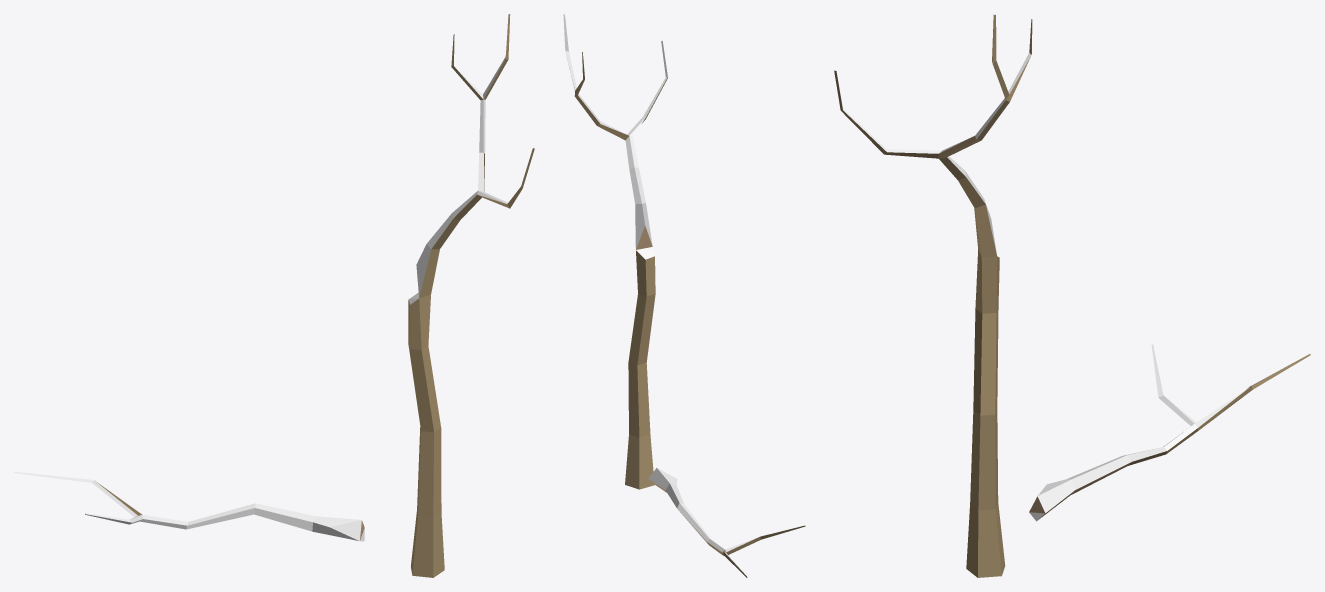
File: Acacia_Tree_NoLeaves_crk_s_Snow_02.fbx
3 renders of one model, left to right at view 1: azimuth 30°, elevation 25°; view 2: azimuth 150°, elevation 25°; view 3: azimuth 270°, elevation 25°, orthographic. The views are drawn at different scales.
Visible parts, largest first — view 1: Acacia_Tree_NoLeaves_crk_s_Snow_02; view 2: Acacia_Tree_NoLeaves_crk_s_Snow_02; view 3: Acacia_Tree_NoLeaves_crk_s_Snow_02.
Boxes of the visible parts, bbox=[...] form: Acacia_Tree_NoLeaves_crk_s_Snow_02: bbox=[14, 14, 534, 577]; Acacia_Tree_NoLeaves_crk_s_Snow_02: bbox=[563, 14, 805, 577]; Acacia_Tree_NoLeaves_crk_s_Snow_02: bbox=[834, 14, 1310, 577].
Size of the model in its own units: 434 by 620 by 444.
